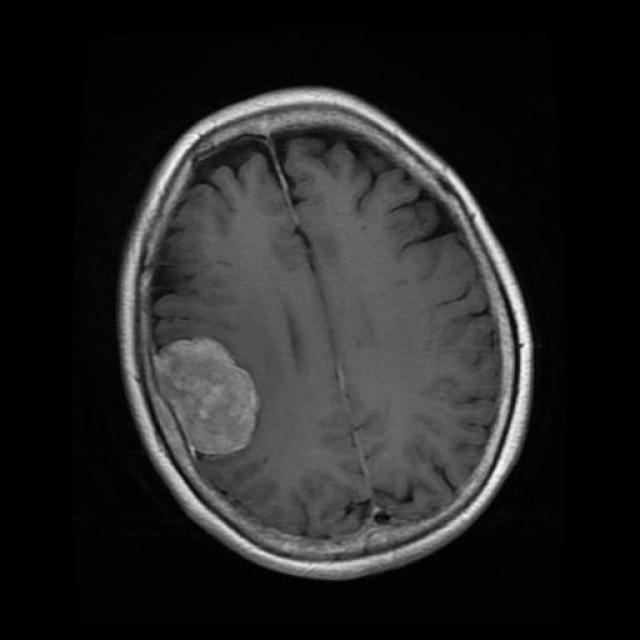meningioma: (154, 338, 258, 452)
